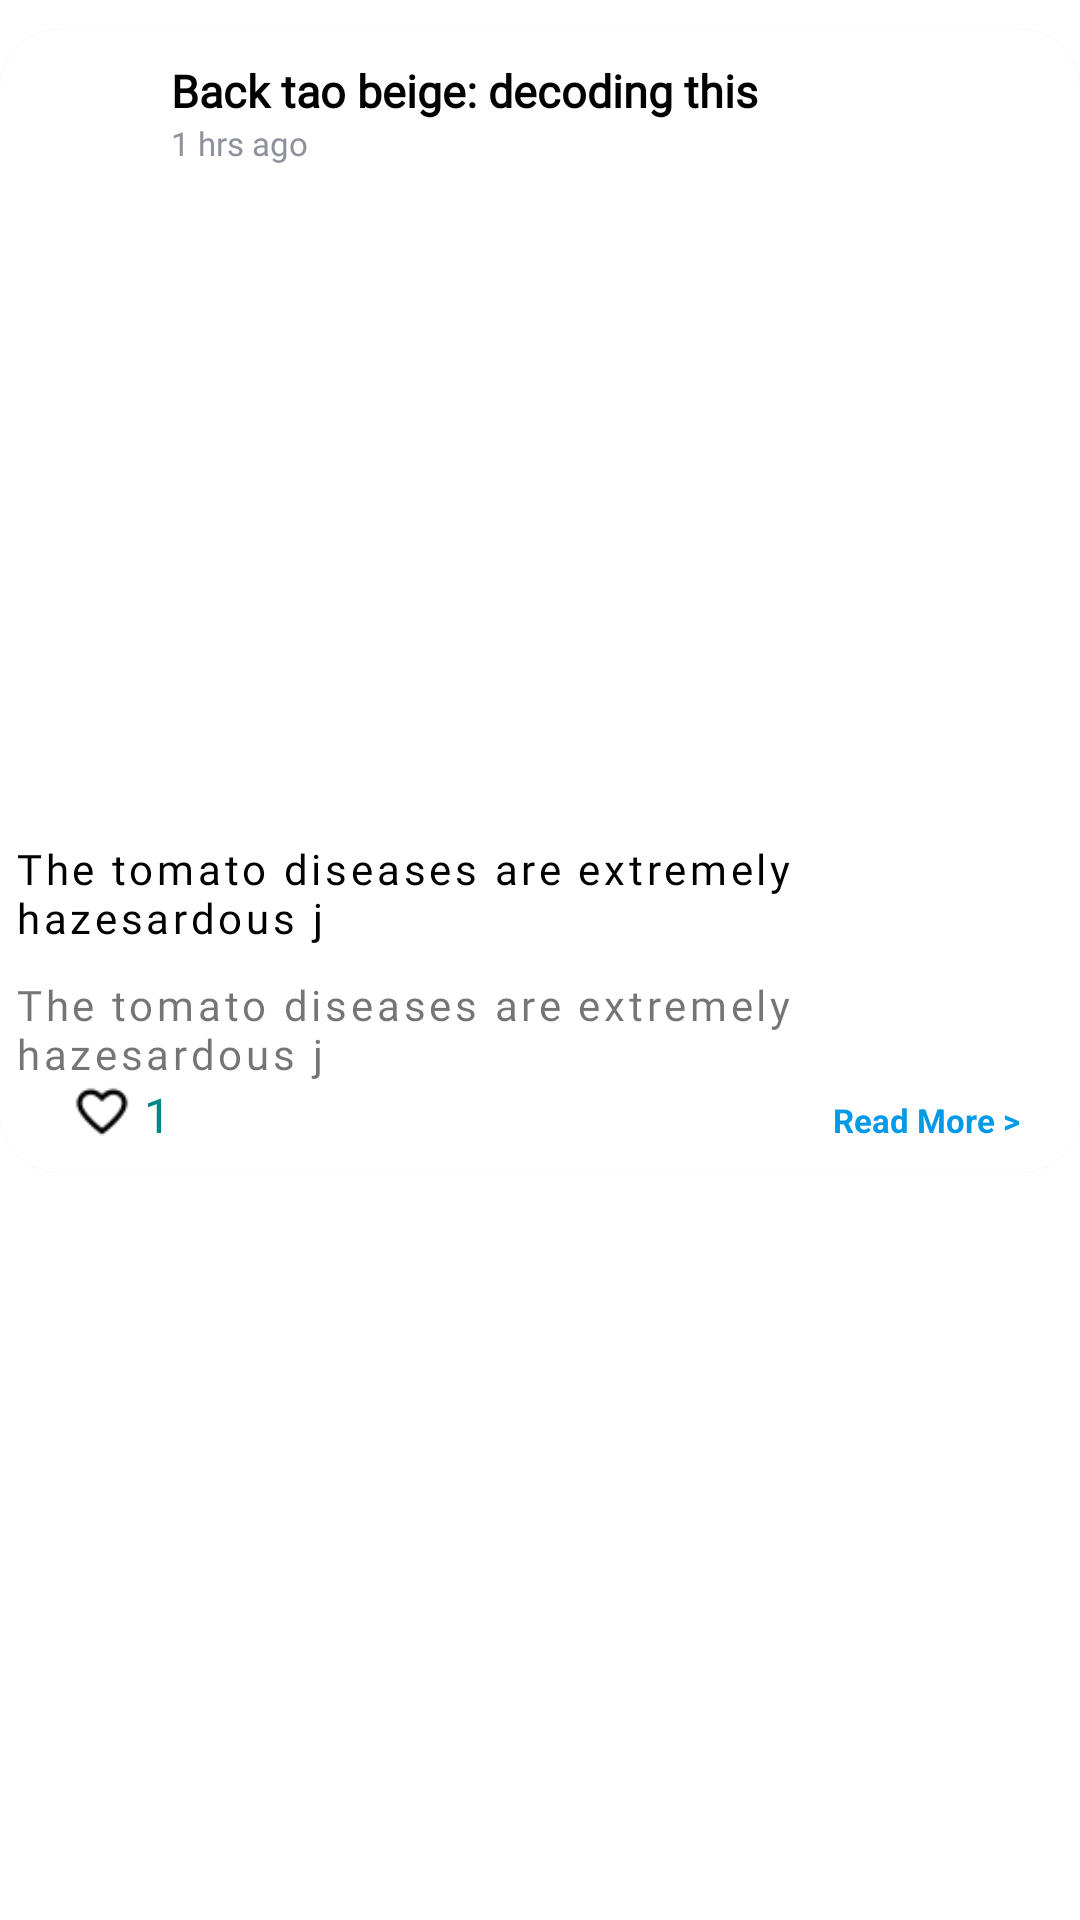

Where icons sit on this 1080px x 1920px app screen, as region(x1, y1, x2, y2):
likebtn: region(76, 1088, 128, 1135)
